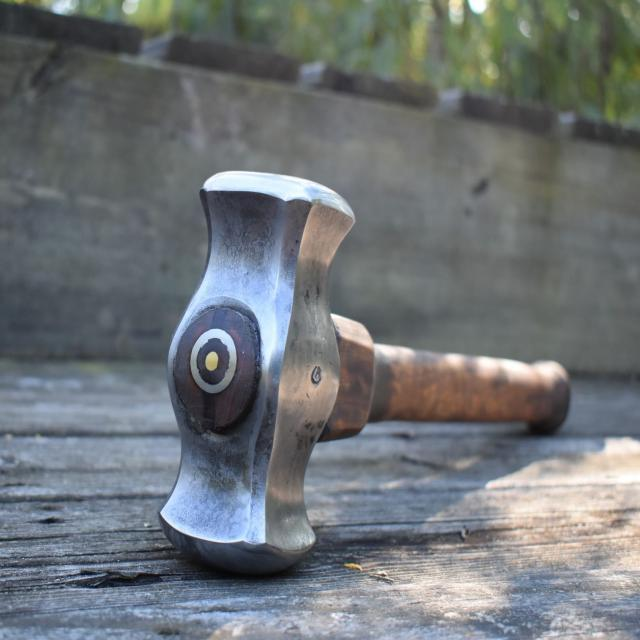hammer: (151, 163, 575, 580)
